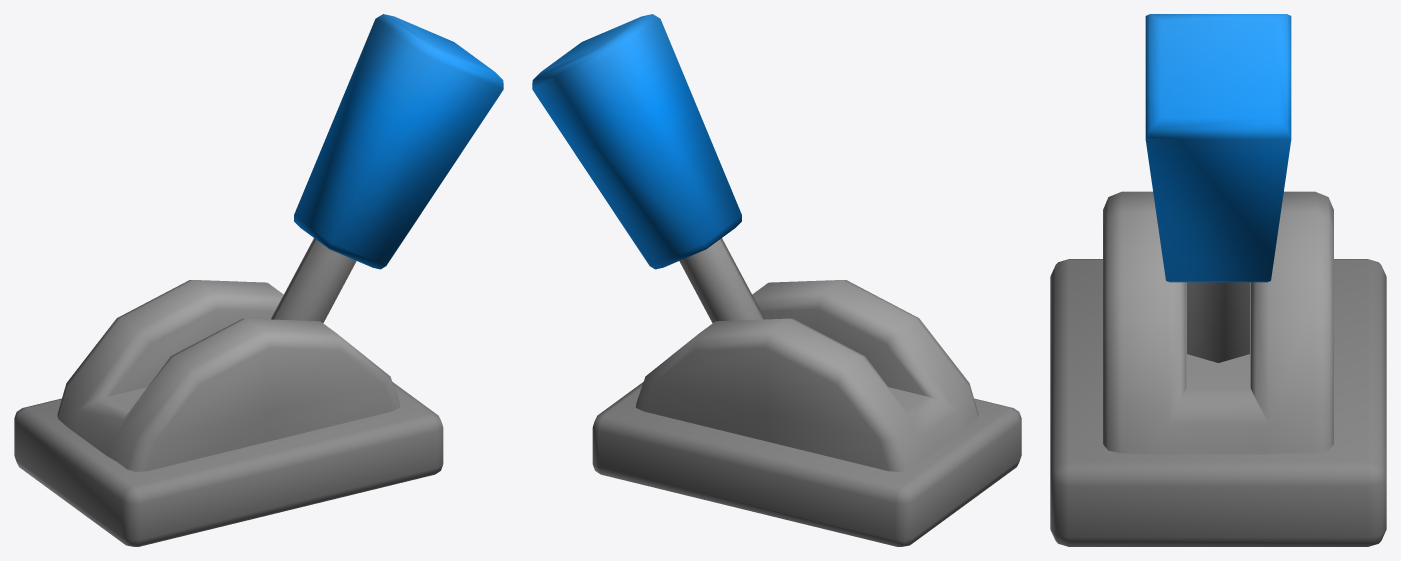
File: Prop_Lever_01.fbx
The picture shows the model from 3 angles, left to right: view 1: azimuth 30°, elevation 25°; view 2: azimuth 150°, elevation 25°; view 3: azimuth 270°, elevation 25°; orthographic projection. The views are drawn at different scales.
Parts seen in each view (by area): view 1: Prop_Lever_01, Prop_Lever_01_Handle; view 2: Prop_Lever_01, Prop_Lever_01_Handle; view 3: Prop_Lever_01, Prop_Lever_01_Handle.
Part boxes in pixels (bbox=[...]): Prop_Lever_01: bbox=[14, 280, 443, 546]; Prop_Lever_01_Handle: bbox=[271, 14, 503, 323]; Prop_Lever_01: bbox=[592, 280, 1021, 546]; Prop_Lever_01_Handle: bbox=[532, 14, 764, 323]; Prop_Lever_01: bbox=[1050, 191, 1386, 546]; Prop_Lever_01_Handle: bbox=[1145, 14, 1291, 362].
Size of the model in its own units: 97.5 by 90.05 by 49.6.
